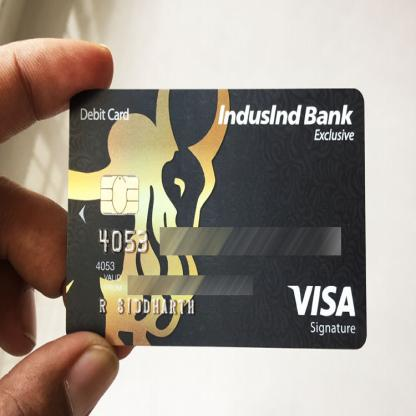tarjeta: (65, 87, 368, 350)
